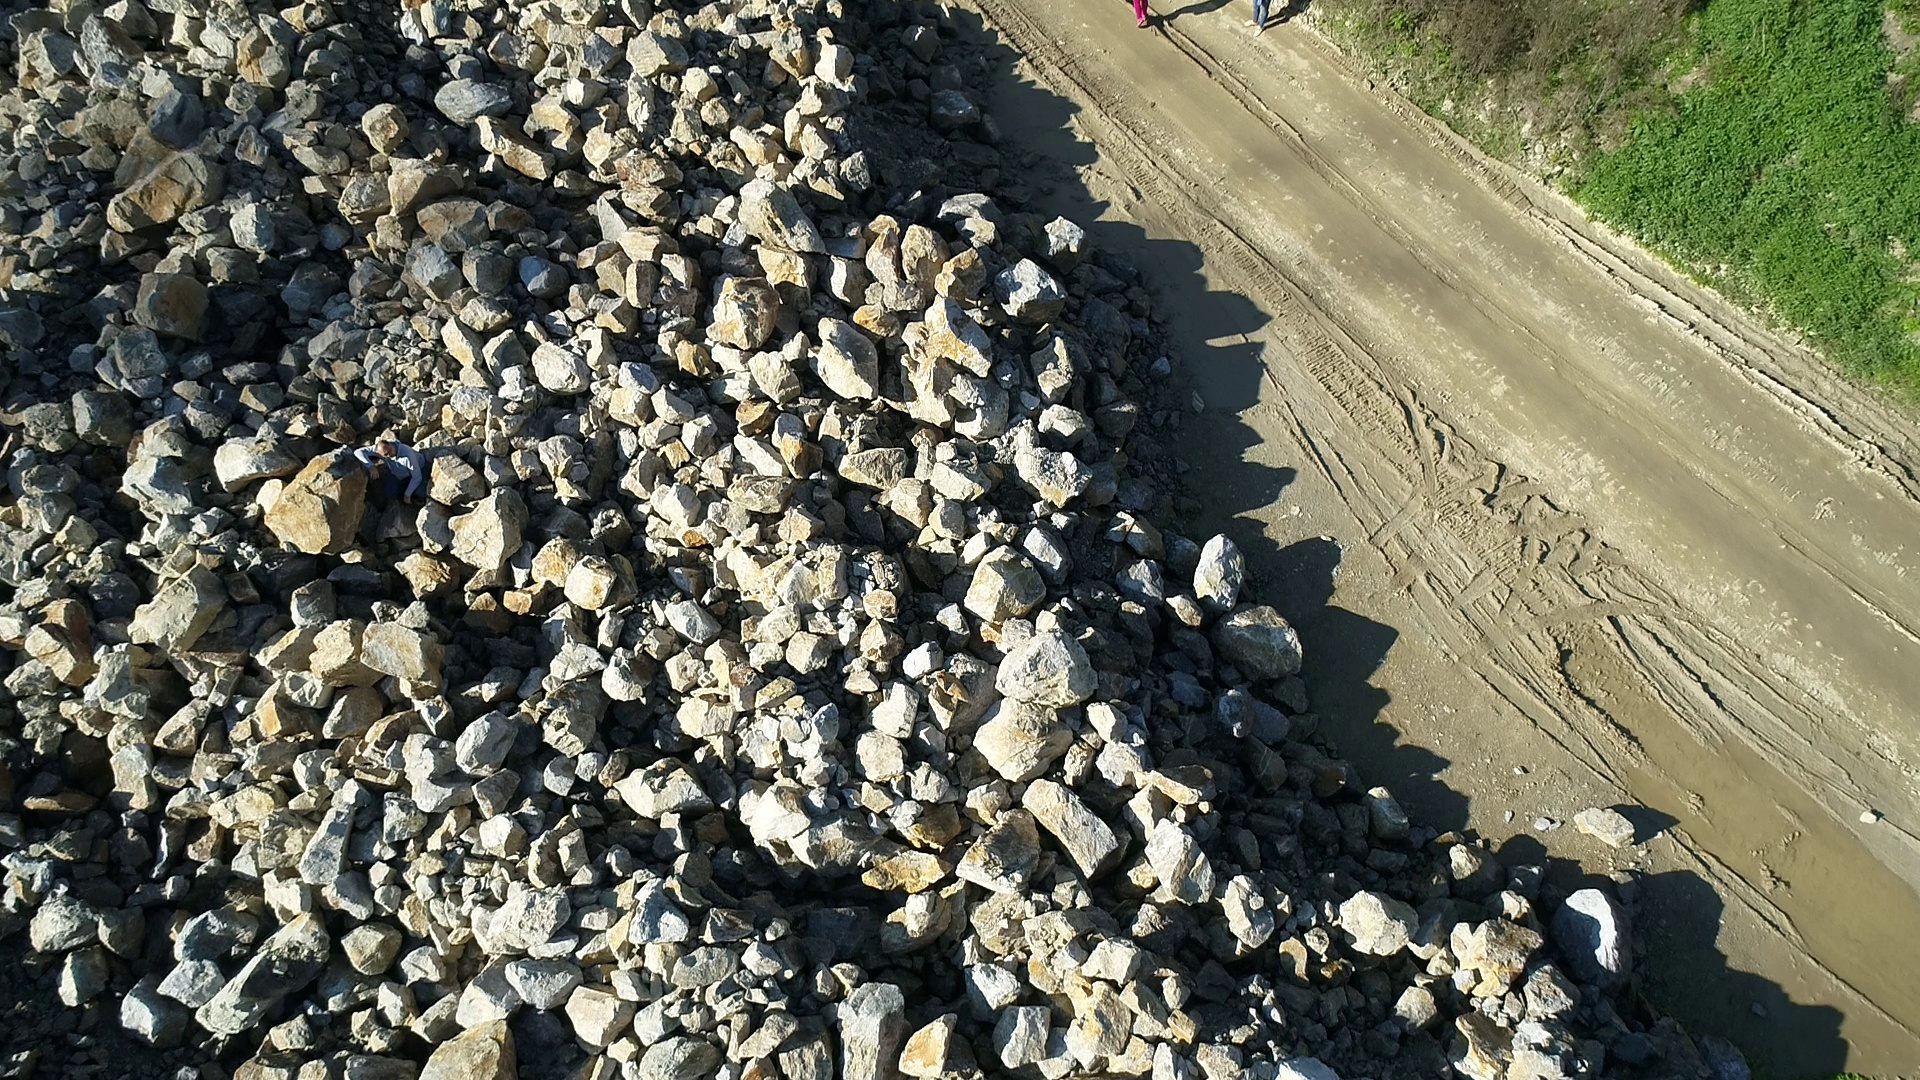person: (354, 439, 425, 506), (1243, 1, 1269, 37), (1133, 1, 1149, 29)
